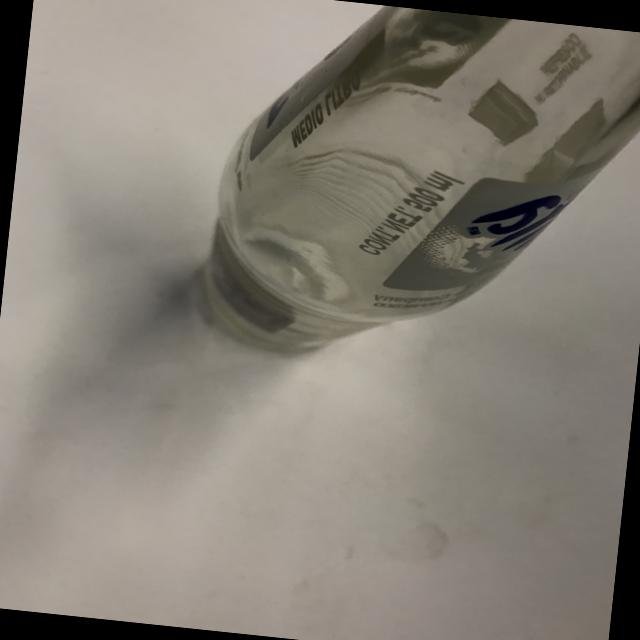Glass: (180, 0, 640, 393)
